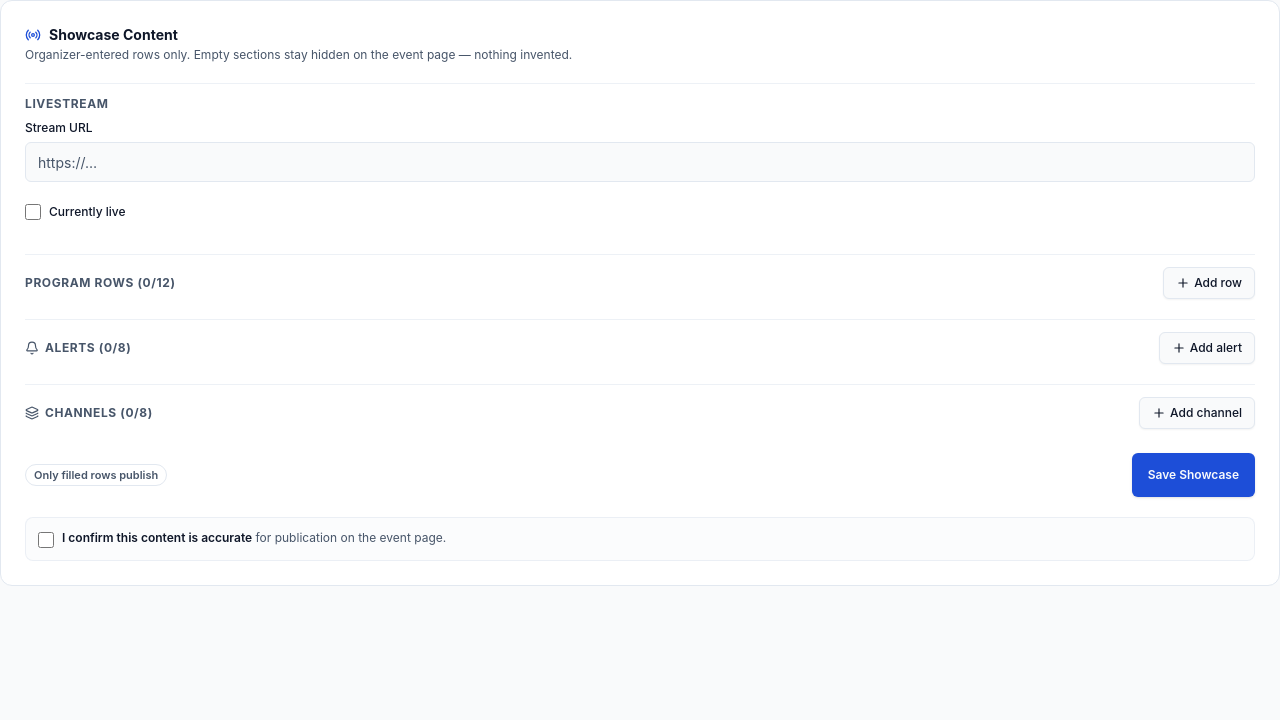
Scenario: ShowcaseEditor authoring › edits rows and saves valid content to the showcase endpoint
Click the button "Add row": (1209, 283) [1163,267,1255,299]
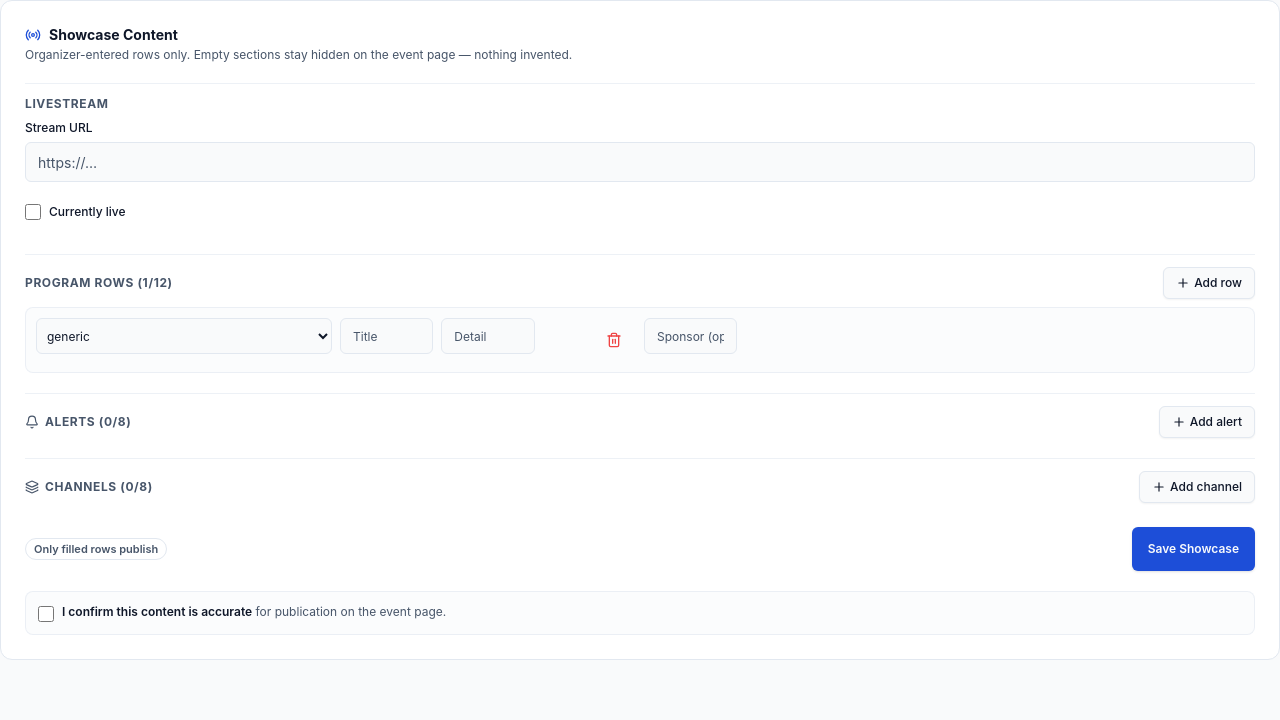
In the field named "Program title": (387, 336) [340,318,433,354], type "Best Demo"
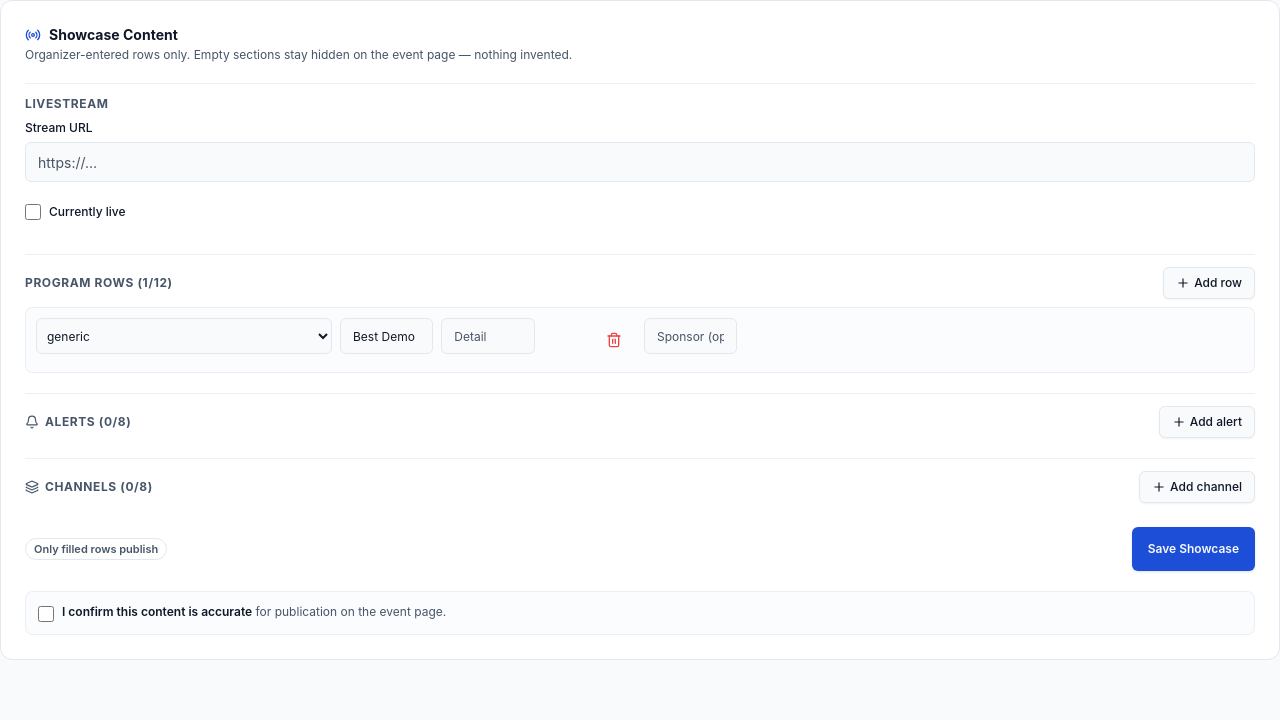
Click the button "Add alert": (1207, 422) [1159,406,1255,438]
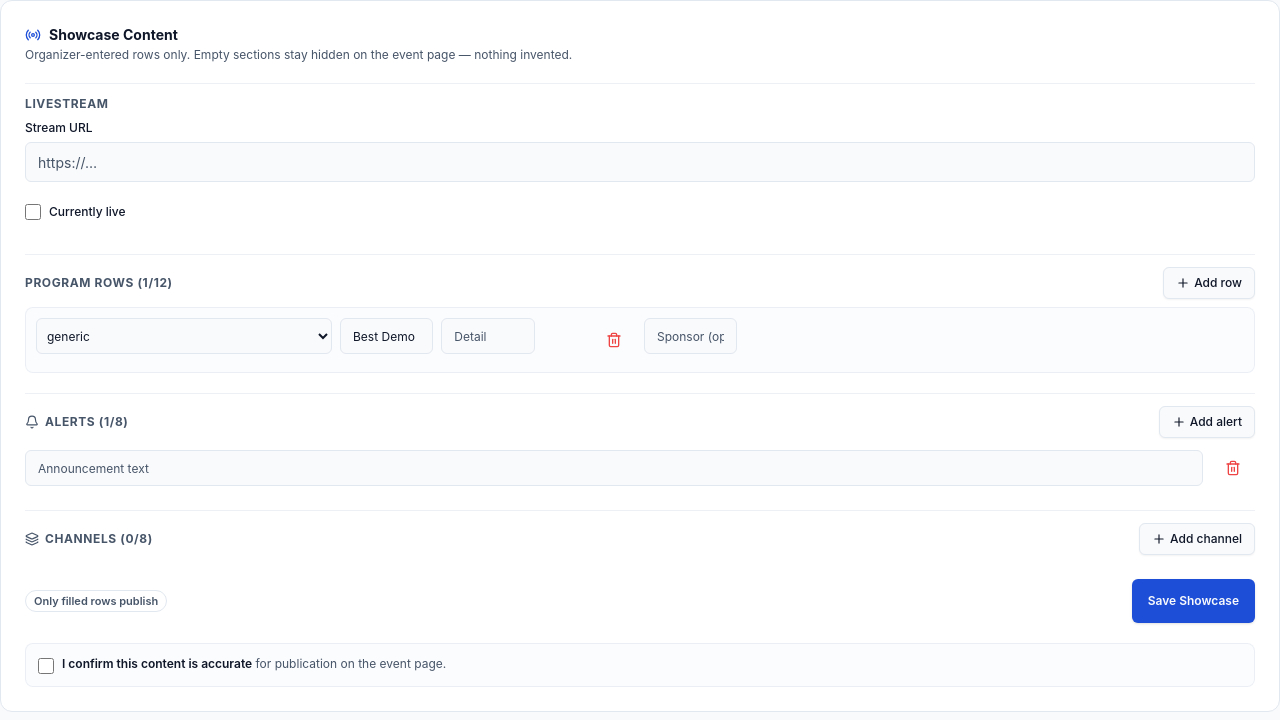
In the field named "Alert 1": (614, 468) [25,450,1203,486], type "Doors open at 08:00"
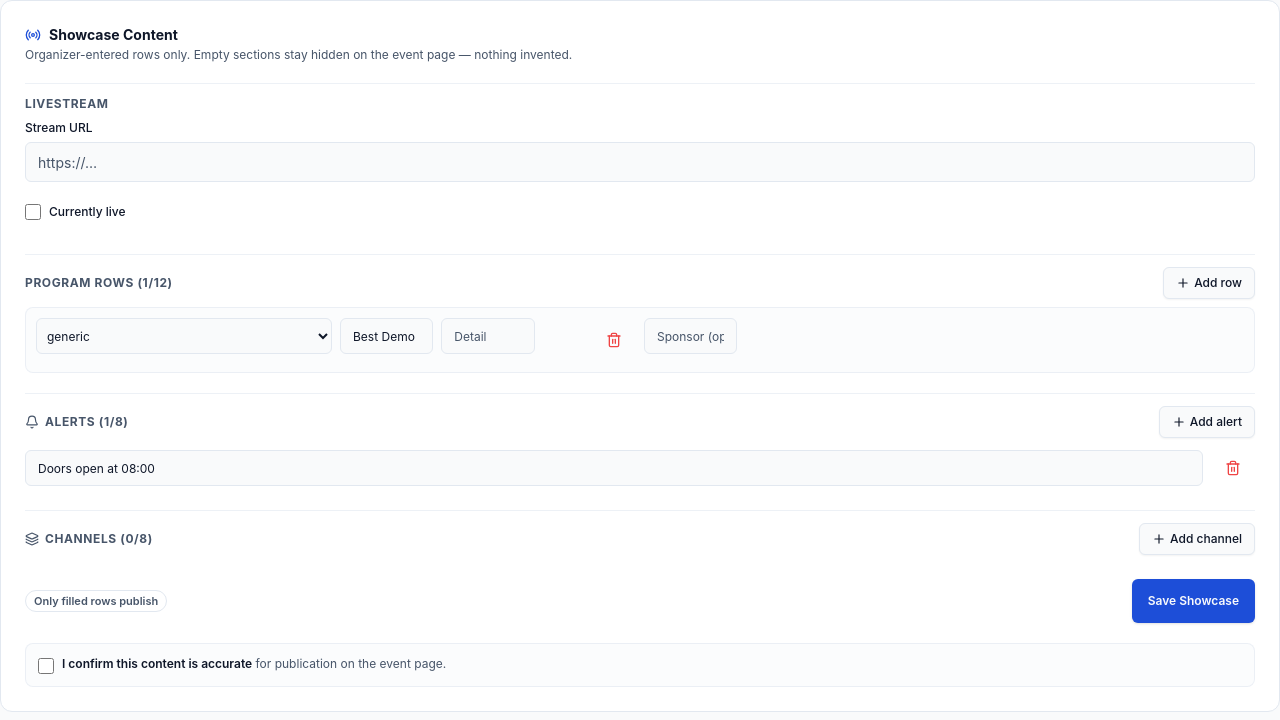
Click the checkbox labelled "confirm this content is accurate": (46, 666) [38,658,54,674]
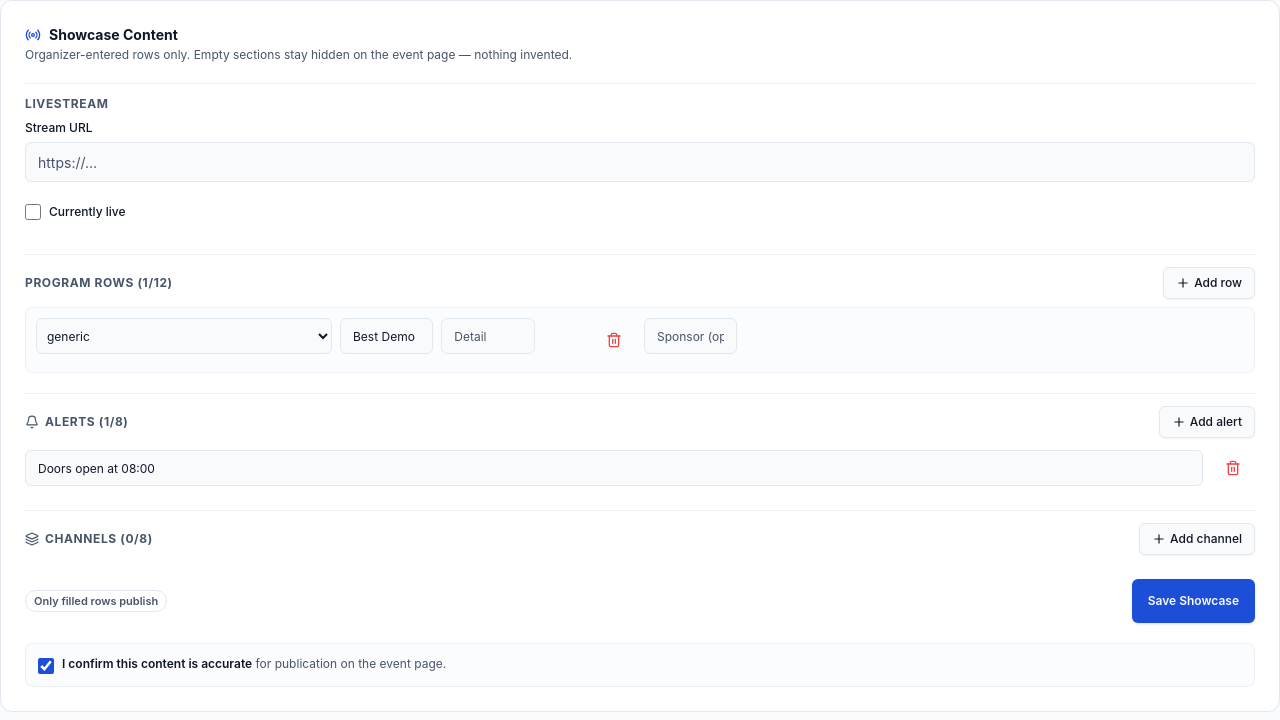
Click the button "Save Showcase": (1193, 601) [1132,579,1255,623]
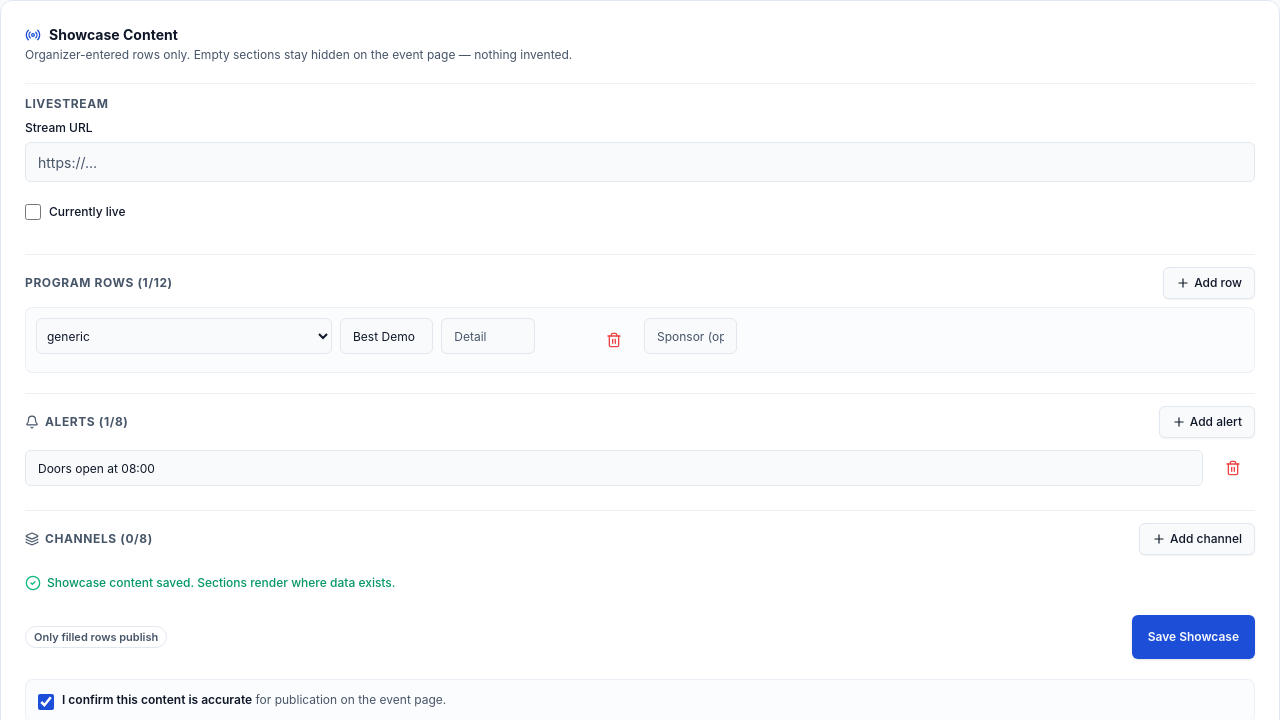
Check: the text "Showcase content saved. Sections render where data exists." is shown, box [47,575,396,591]
